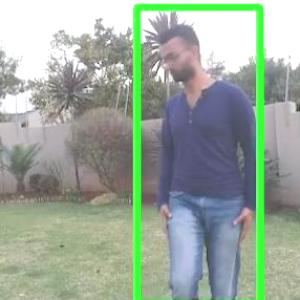follow: (152, 27, 262, 299)
